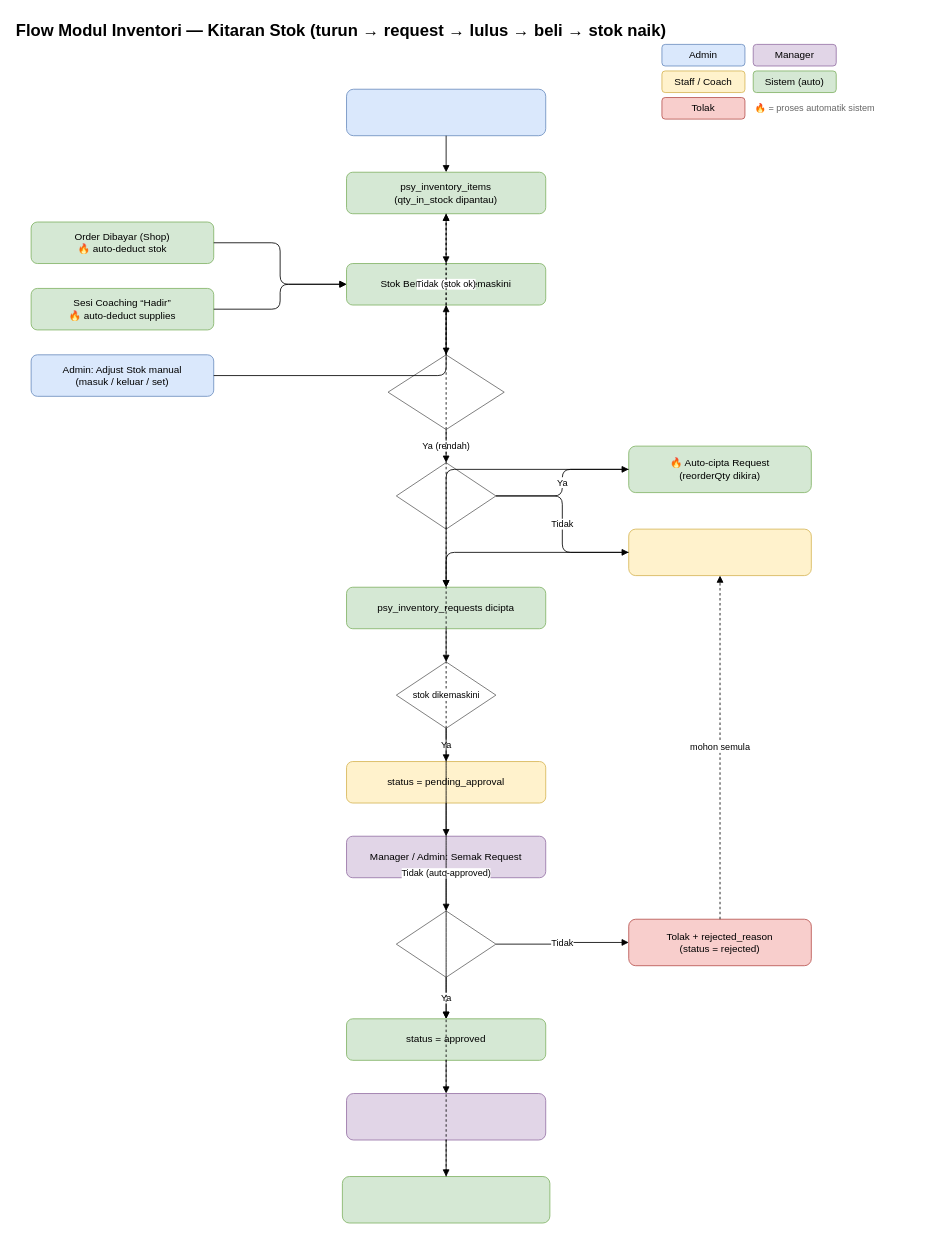
The diagram is 950 pixels wide and 1238 high, and some of its shapes have lost their labels. Each missing label, with the box of its shape:
Admin: Tambah / Edit Item Inventori (set min_qty + auto_reorder config): (346, 88, 546, 136)
auto_reorder enabled?: (395, 462, 496, 529)
Lulus?: (395, 910, 496, 977)
Manager / Admin: “Tandakan Dibeli” (status = purchased): (346, 1093, 546, 1140)
Perlu kelulusan?: (395, 661, 496, 728)
Staff / Coach: Request Purchase (qty + sebab): (628, 528, 811, 576)
Stok ≤ threshold? (pakej ≤30% / lain ≤ min_qty): (387, 354, 504, 430)
🔥 Auto-adjust qty_in_stock += qty (STOK NAIK + audit log): (342, 1176, 550, 1223)
